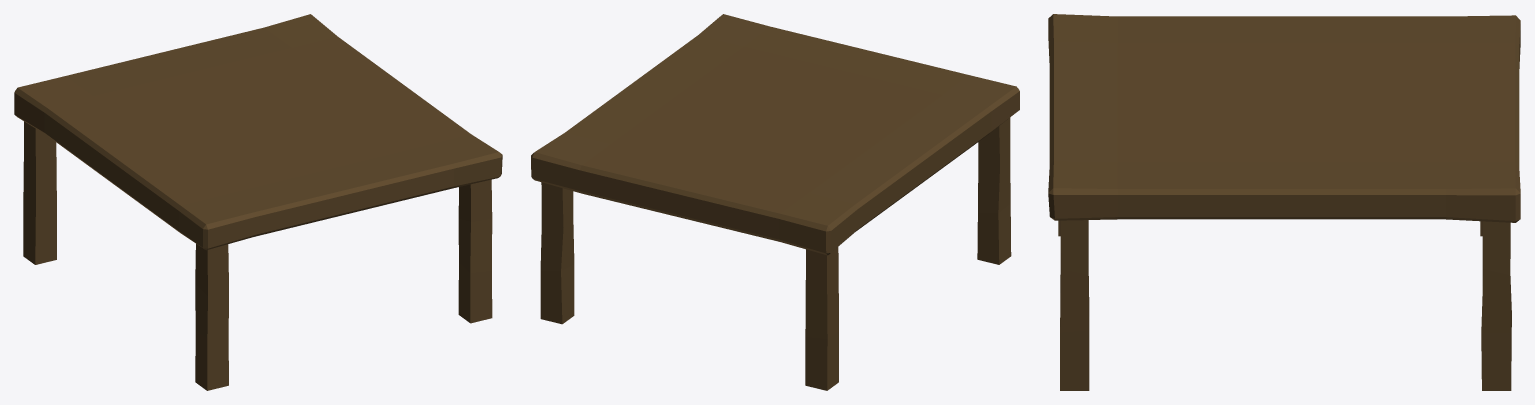
The model's file is CoffeTable01.fbx.
3 views of the same model, side by side, from view 1: azimuth 30°, elevation 25°; view 2: azimuth 150°, elevation 25°; view 3: azimuth 270°, elevation 25° (orthographic). The views are drawn at different scales.
Visible parts, largest first — view 1: CoffeTable01; view 2: CoffeTable01; view 3: CoffeTable01.
Boxes of the visible parts, x1,y1,x2,y2 form: CoffeTable01: [14, 14, 502, 390]; CoffeTable01: [531, 14, 1019, 390]; CoffeTable01: [1048, 14, 1520, 390].
Bounding box in the file's own units: 131 × 70.96 × 146.
